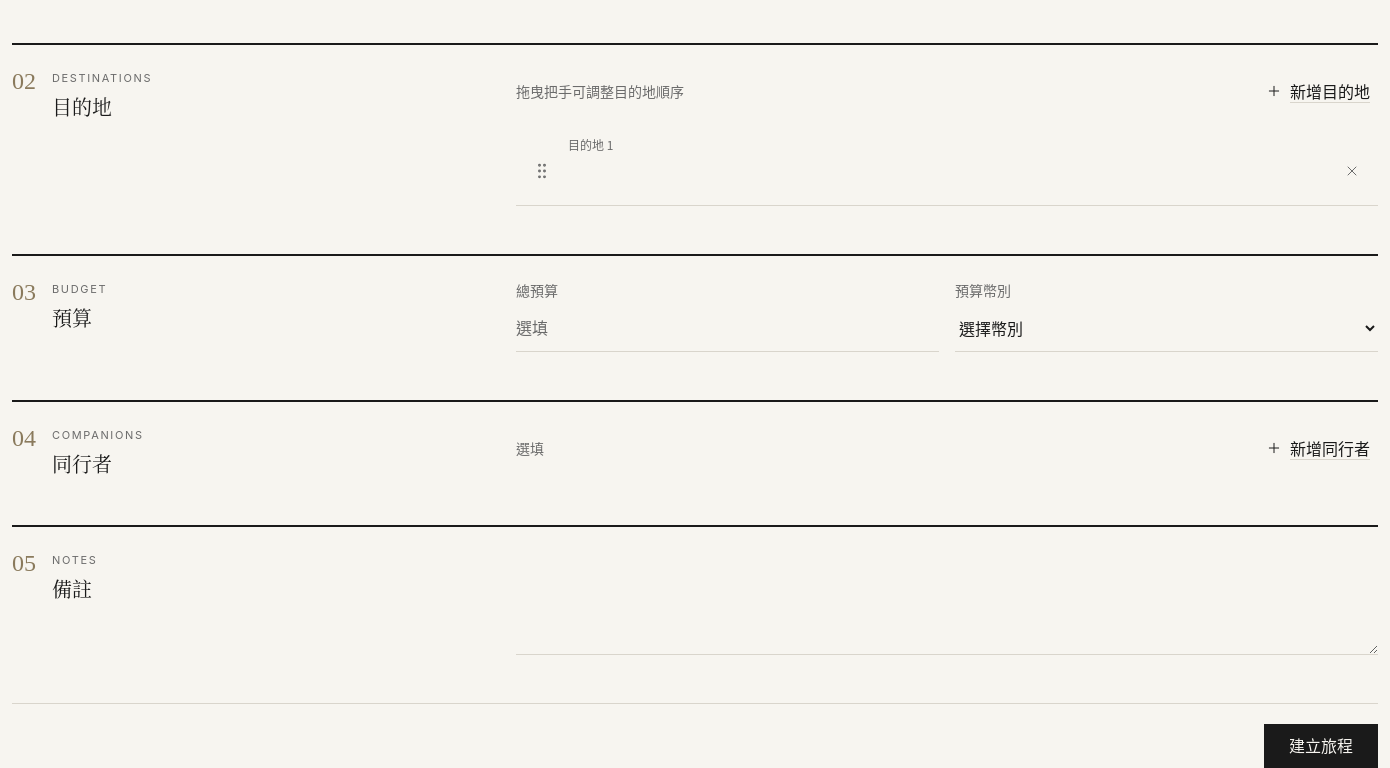
Test: trip form validation › marks required fields in Traditional Chinese and never writes invalid input
This screenshot has width=1390, height=768.
(page scrolled)
Click the button "建立旅程". click: [1321, 746]
box: [1264,724,1378,767]
(page scrolled)
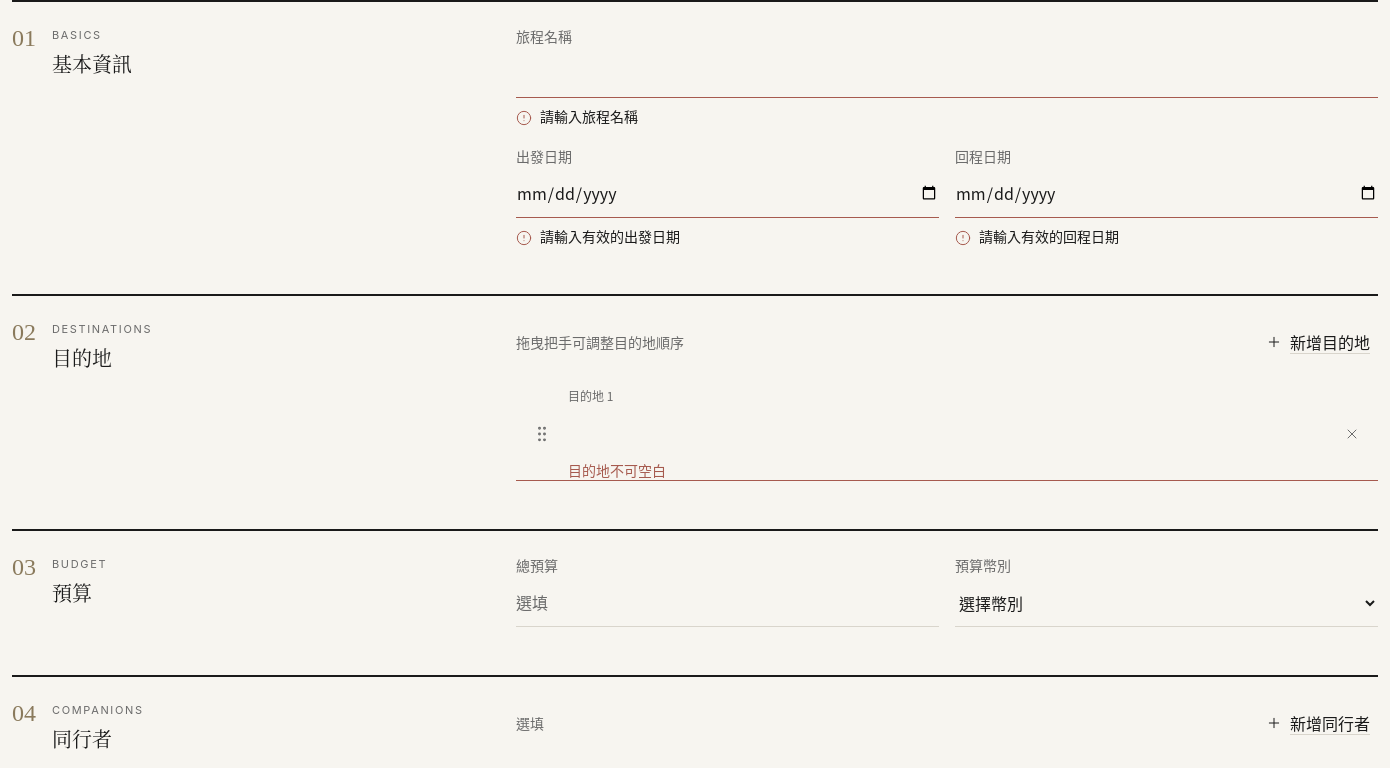
Expected: the text "請輸入旅程名稱" is shown, [540,106,638,126]
Expected: the text "目的地不可空白" is shown, [568,460,666,480]
Expected: the text "請輸入有效的出發日期" is shown, [540,226,680,246]
